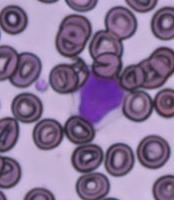L: (71, 70, 126, 130)
